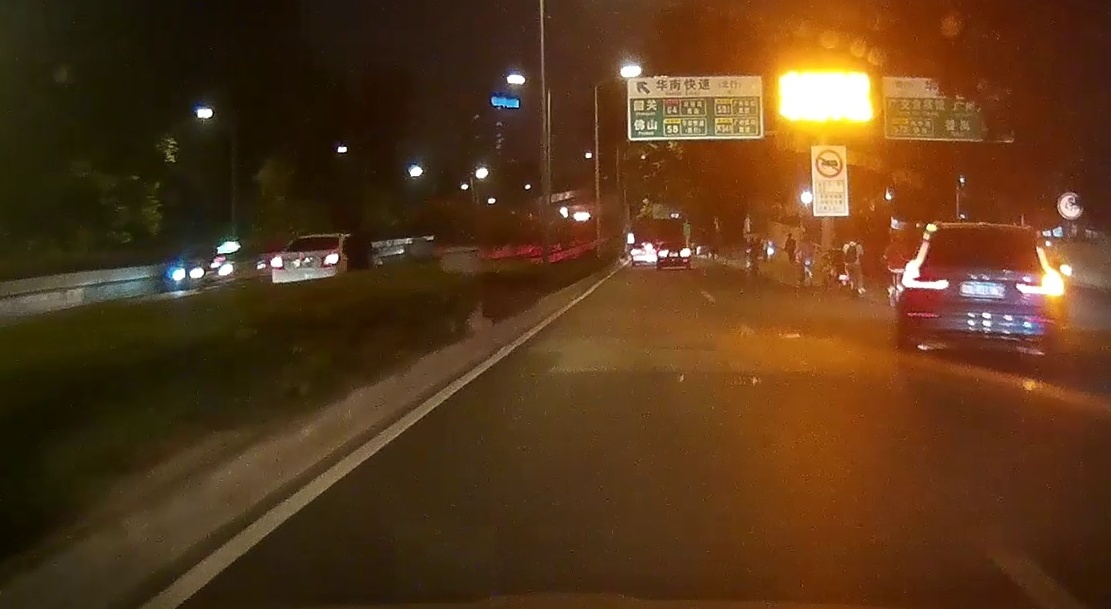L_light: (901, 240, 950, 289), (269, 255, 285, 268)
R_light: (1014, 245, 1065, 296), (323, 253, 340, 267)
T_light: (972, 227, 1006, 233), (309, 237, 323, 240)
night-no: (268, 233, 344, 294)
night-right: (895, 223, 1068, 362)
